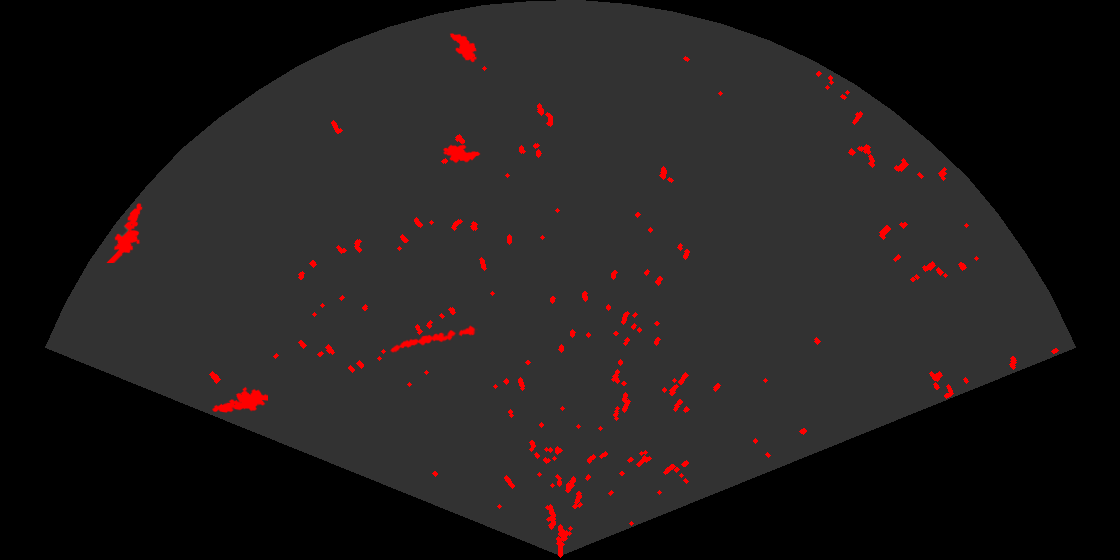AUV: (448, 31, 478, 64), (441, 143, 482, 165)
chain: (388, 324, 478, 354)
frogman: (105, 201, 144, 263), (210, 385, 268, 414)
